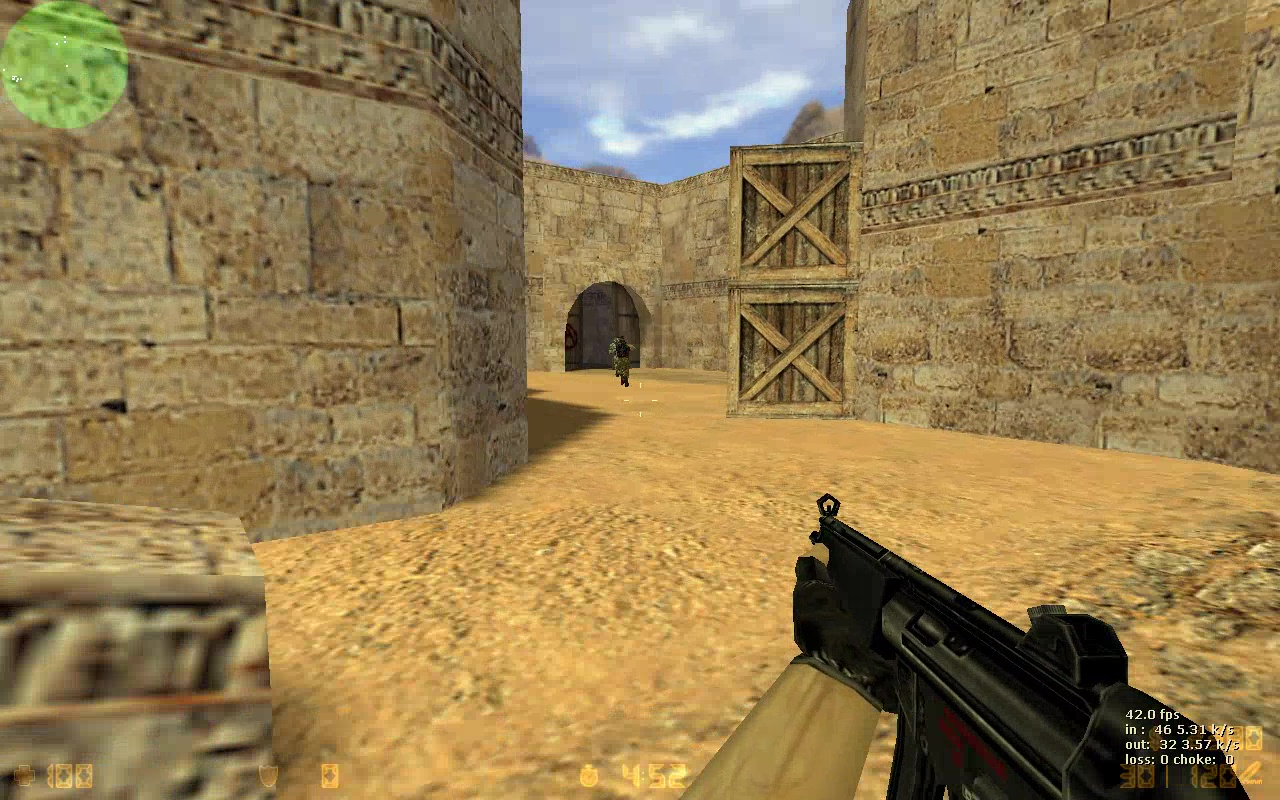terr1: (611, 338, 635, 388)
